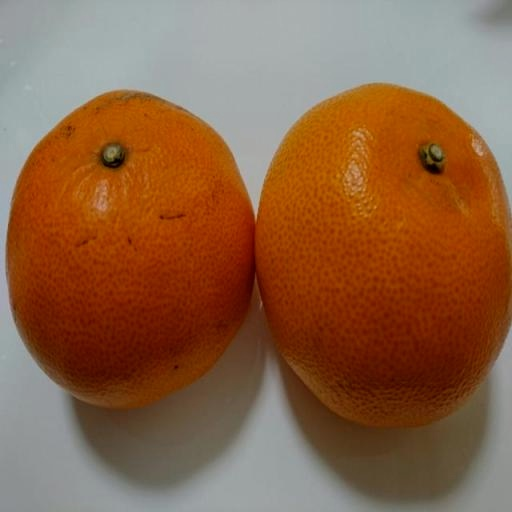fruit: (255, 84, 511, 425), (6, 92, 253, 407)
